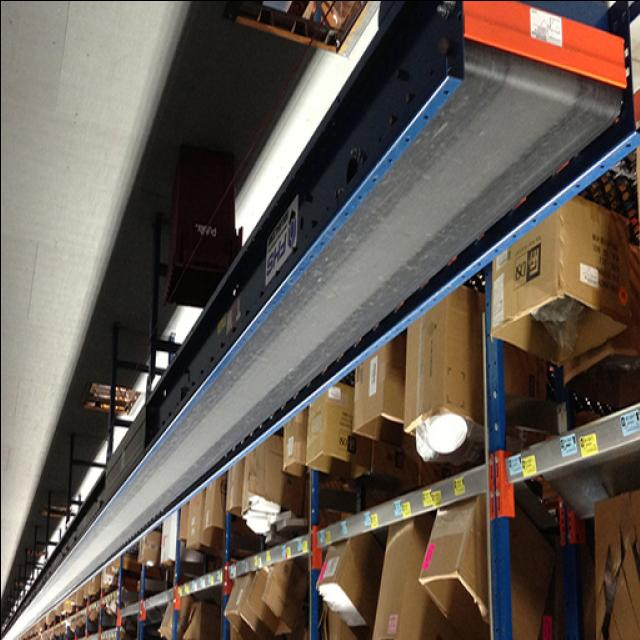conveyor: (0, 40, 634, 640)
